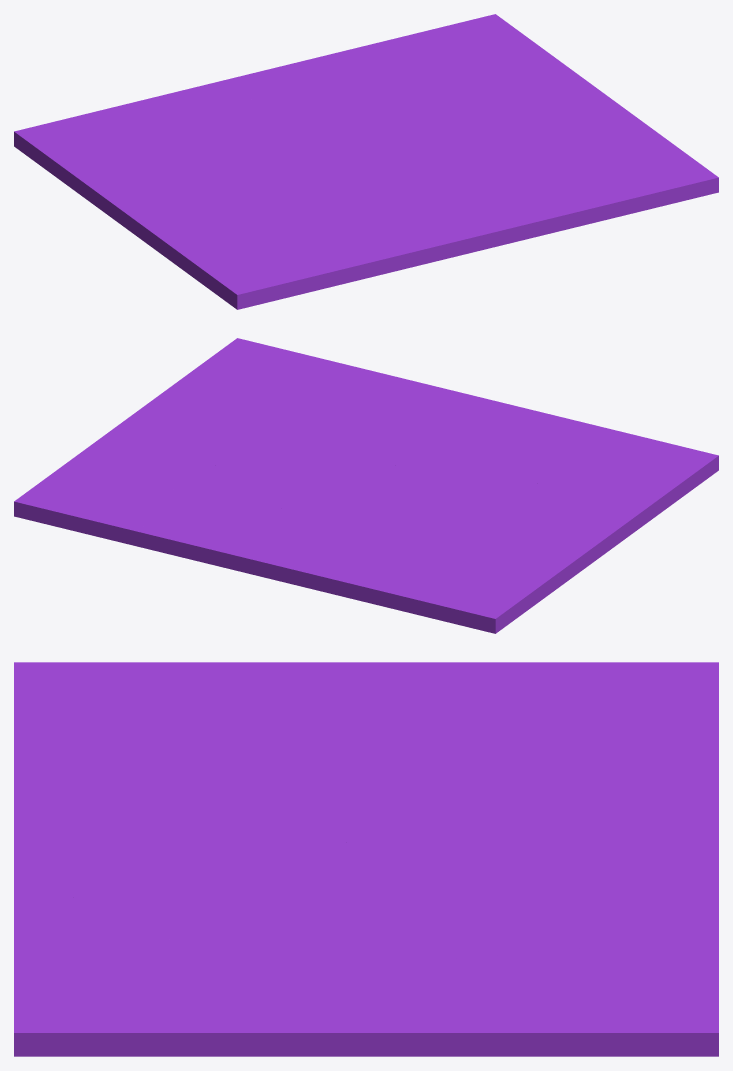
The model's file is Platform_15_chunks.fbx.
The picture shows the model from 3 angles, top to bottom: view 1: azimuth 30°, elevation 25°; view 2: azimuth 150°, elevation 25°; view 3: azimuth 270°, elevation 25°; orthographic projection. The views are drawn at different scales.
Visible parts, largest first — view 1: Platform_15_0, Platform_15_9, Platform_15_2, Platform_15_7, Platform_15_8, Platform_15_10, Platform_15_4, Platform_15_3, Platform_15_11, Platform_15_15, Platform_15_6, Platform_15_5 (+7 smaller); view 2: Platform_15_0, Platform_15_4, Platform_15_9, Platform_15_7, Platform_15_10, Platform_15_2, Platform_15_15, Platform_15_11, Platform_15_3, Platform_15_8, Platform_15_6, Platform_15_5 (+7 smaller); view 3: Platform_15_7, Platform_15_10, Platform_15_4, Platform_15_9, Platform_15_0, Platform_15_2, Platform_15_8, Platform_15_3, Platform_15_11, Platform_15_15, Platform_15_6, Platform_15_5 (+7 smaller).
Part boxes in pixels (x1,y1,x2,y2): Platform_15_0: (61,169,292,256); Platform_15_9: (370,145,531,256); Platform_15_2: (165,215,391,309); Platform_15_7: (383,62,612,157); Platform_15_8: (506,171,718,240); Platform_15_10: (489,100,709,170); Platform_15_4: (371,14,560,98); Platform_15_3: (271,201,455,271); Platform_15_11: (14,116,171,182); Platform_15_15: (76,74,262,132); Platform_15_6: (337,44,481,106); Platform_15_5: (279,102,465,150); Platform_15_0: (441,482,652,598); Platform_15_4: (14,453,193,555); Platform_15_9: (311,383,507,478); Platform_15_7: (80,415,339,476); Platform_15_10: (132,344,330,431); Platform_15_2: (538,429,718,522); Platform_15_15: (257,545,457,624); Platform_15_11: (412,554,562,633); Platform_15_3: (466,404,611,483); Platform_15_8: (229,338,423,418); Platform_15_6: (139,464,263,542); Platform_15_5: (218,466,380,517); Platform_15_7: (260,864,511,1056); Platform_15_10: (42,915,347,1056); Platform_15_4: (455,937,718,1056); Platform_15_9: (14,824,382,915); Platform_15_0: (224,662,497,785); Platform_15_2: (14,662,247,744); Platform_15_8: (14,889,202,1056); Platform_15_3: (14,744,273,830); Platform_15_11: (507,662,718,750); Platform_15_15: (558,709,718,841); Platform_15_6: (443,884,718,958); Platform_15_5: (375,808,539,942).
Bounding box in the file's own units: 1009 × 29.87 × 810.
